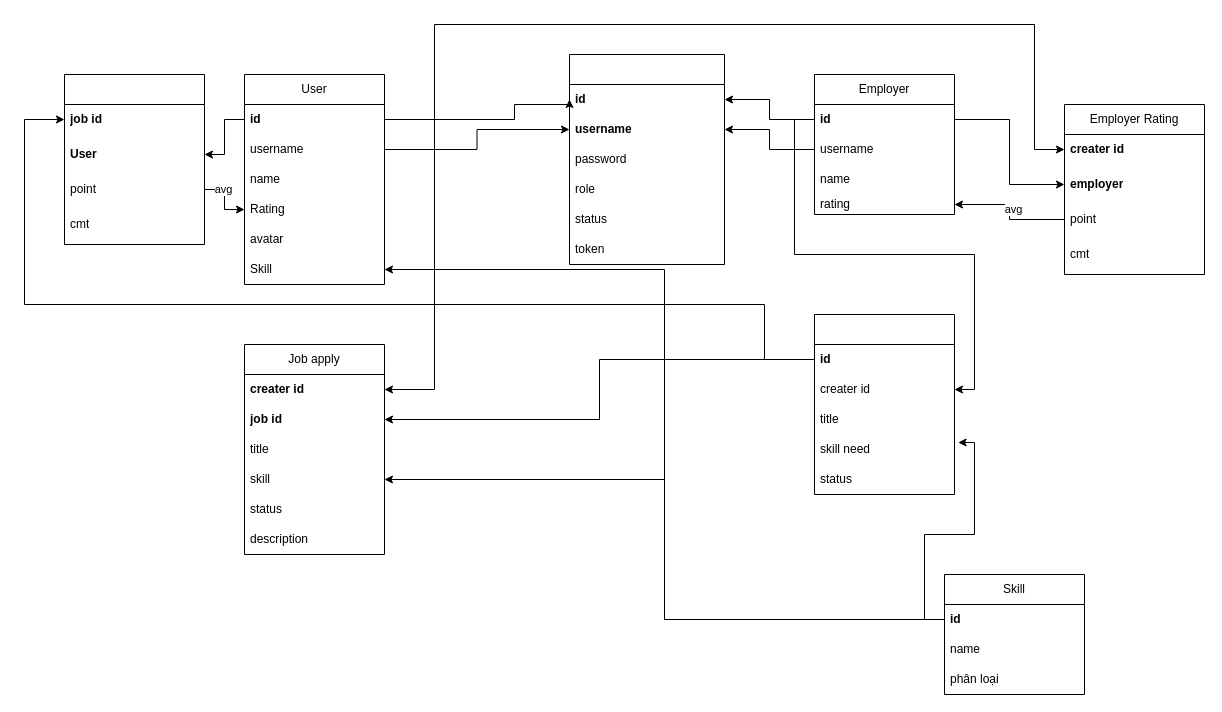
This 1222x712 diagram has some shape labels left out. Each missing label, with the box of its shape:
Account: (568, 54, 724, 264)
job' history: (64, 74, 204, 244)
Jobs: (814, 314, 954, 494)
